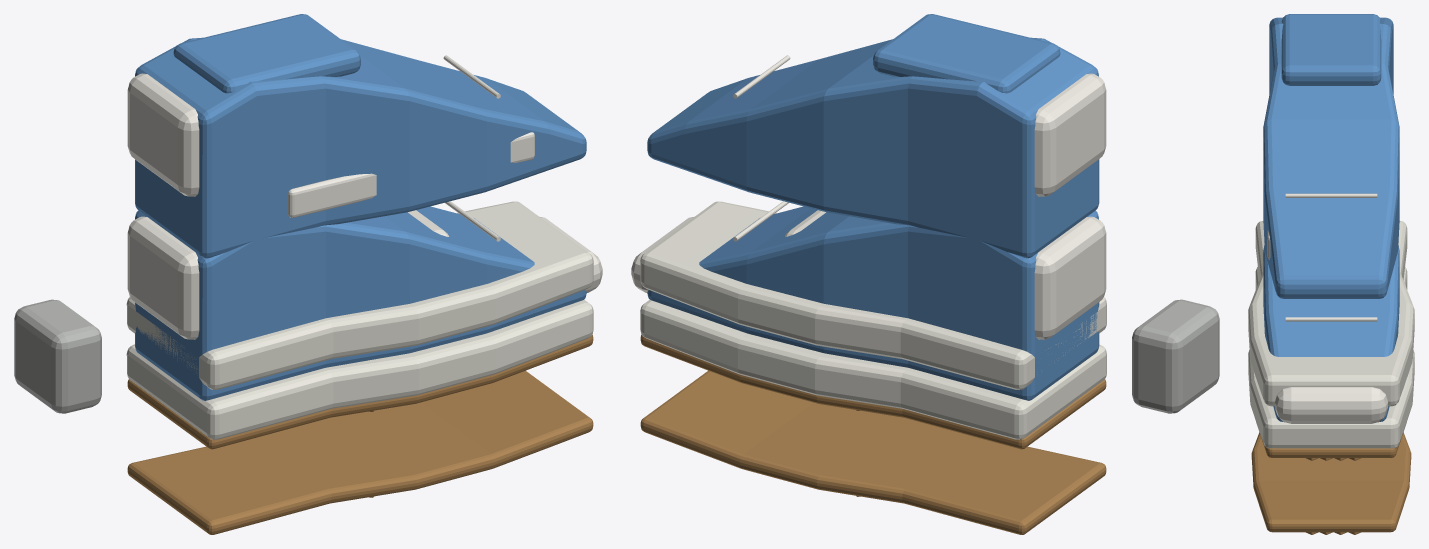
File: nike-waffle-trainer-1975.glb
3 renders of one model, left to right at view 1: azimuth 30°, elevation 25°; view 2: azimuth 150°, elevation 25°; view 3: azimuth 270°, elevation 25°, orthographic. The views are drawn at different scales.
Parts seen in each view (by area): view 1: nike-waffle-trainer-1975_UPPER_EXPLODED, nike-waffle-trainer-1975_OUTSOLE_EXPLODED, nike-waffle-trainer-1975_UPPER, nike-waffle-trainer-1975_MIDSOLE_EXPLODED, nike-waffle-trainer-1975_MIDSOLE, nike-waffle-trainer-1975_TONGUE_EXPLODED, nike-waffle-trainer-1975_HEEL_FOAM_EXPLODED, nike-waffle-trainer-1975_HEEL_COUNTER, nike-waffle-trainer-1975_HEEL_COUNTER_EXPLODED, nike-waffle-trainer-1975_OUTSOLE, nike-waffle-trainer-1975_SIDE_REINFORCEMENT_EXPLODED; view 2: nike-waffle-trainer-1975_UPPER_EXPLODED, nike-waffle-trainer-1975_OUTSOLE_EXPLODED, nike-waffle-trainer-1975_UPPER, nike-waffle-trainer-1975_MIDSOLE_EXPLODED, nike-waffle-trainer-1975_MIDSOLE, nike-waffle-trainer-1975_TONGUE_EXPLODED, nike-waffle-trainer-1975_HEEL_FOAM_EXPLODED, nike-waffle-trainer-1975_HEEL_COUNTER_EXPLODED, nike-waffle-trainer-1975_HEEL_COUNTER, nike-waffle-trainer-1975_OUTSOLE; view 3: nike-waffle-trainer-1975_UPPER_EXPLODED, nike-waffle-trainer-1975_OUTSOLE_EXPLODED, nike-waffle-trainer-1975_MIDSOLE_EXPLODED, nike-waffle-trainer-1975_UPPER, nike-waffle-trainer-1975_TONGUE_EXPLODED, nike-waffle-trainer-1975_MIDSOLE, nike-waffle-trainer-1975_TOE_OVERLAY, nike-waffle-trainer-1975_OUTSOLE, nike-waffle-trainer-1975_LACE_5, nike-waffle-trainer-1975_LACE_5_EXPLODED.
Boxes of the visible parts, left/top/right/bottom form: nike-waffle-trainer-1975_UPPER_EXPLODED: left=135, top=37, right=586, bottom=258; nike-waffle-trainer-1975_OUTSOLE_EXPLODED: left=127, top=370, right=593, bottom=534; nike-waffle-trainer-1975_UPPER: left=135, top=206, right=586, bottom=400; nike-waffle-trainer-1975_MIDSOLE_EXPLODED: left=126, top=201, right=593, bottom=389; nike-waffle-trainer-1975_MIDSOLE: left=126, top=300, right=593, bottom=439; nike-waffle-trainer-1975_TONGUE_EXPLODED: left=173, top=14, right=360, bottom=93; nike-waffle-trainer-1975_HEEL_FOAM_EXPLODED: left=14, top=299, right=101, bottom=413; nike-waffle-trainer-1975_HEEL_COUNTER: left=127, top=216, right=199, bottom=339; nike-waffle-trainer-1975_HEEL_COUNTER_EXPLODED: left=127, top=73, right=199, bottom=196; nike-waffle-trainer-1975_OUTSOLE: left=127, top=335, right=593, bottom=449; nike-waffle-trainer-1975_SIDE_REINFORCEMENT_EXPLODED: left=288, top=132, right=534, bottom=217; nike-waffle-trainer-1975_UPPER_EXPLODED: left=647, top=37, right=1099, bottom=258; nike-waffle-trainer-1975_OUTSOLE_EXPLODED: left=640, top=370, right=1106, bottom=534; nike-waffle-trainer-1975_UPPER: left=647, top=206, right=1099, bottom=400; nike-waffle-trainer-1975_MIDSOLE_EXPLODED: left=640, top=201, right=1106, bottom=389; nike-waffle-trainer-1975_MIDSOLE: left=640, top=300, right=1106, bottom=439; nike-waffle-trainer-1975_TONGUE_EXPLODED: left=873, top=14, right=1060, bottom=93; nike-waffle-trainer-1975_HEEL_FOAM_EXPLODED: left=1132, top=299, right=1219, bottom=413; nike-waffle-trainer-1975_HEEL_COUNTER_EXPLODED: left=1034, top=73, right=1106, bottom=196; nike-waffle-trainer-1975_HEEL_COUNTER: left=1034, top=216, right=1106, bottom=339; nike-waffle-trainer-1975_OUTSOLE: left=640, top=335, right=1106, bottom=449; nike-waffle-trainer-1975_UPPER_EXPLODED: left=1263, top=17, right=1399, bottom=298; nike-waffle-trainer-1975_OUTSOLE_EXPLODED: left=1251, top=432, right=1411, bottom=532; nike-waffle-trainer-1975_MIDSOLE_EXPLODED: left=1248, top=221, right=1414, bottom=406; nike-waffle-trainer-1975_UPPER: left=1263, top=245, right=1399, bottom=422; nike-waffle-trainer-1975_TONGUE_EXPLODED: left=1281, top=14, right=1381, bottom=85; nike-waffle-trainer-1975_MIDSOLE: left=1248, top=267, right=1414, bottom=448; nike-waffle-trainer-1975_TOE_OVERLAY: left=1275, top=387, right=1387, bottom=423; nike-waffle-trainer-1975_OUTSOLE: left=1256, top=422, right=1406, bottom=457; nike-waffle-trainer-1975_LACE_5: left=1285, top=317, right=1377, bottom=321; nike-waffle-trainer-1975_LACE_5_EXPLODED: left=1285, top=193, right=1377, bottom=197.
Size of the model in its own units: 0.3975 by 0.31 by 0.122.
